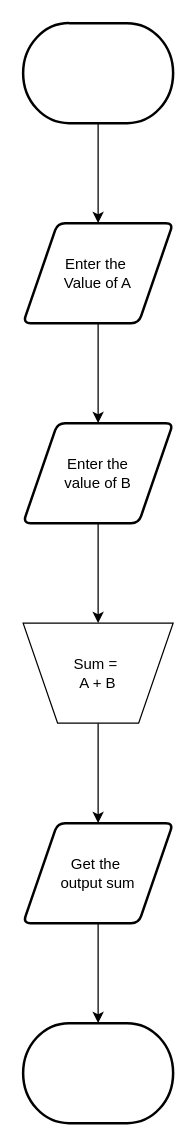
Image size: 195x1145. Some labels were removed from this diagram. Here are the shapes that lost their labels. From the top down, the centre of each, then its label:
point 97,72: Start
point 97,1072: End
